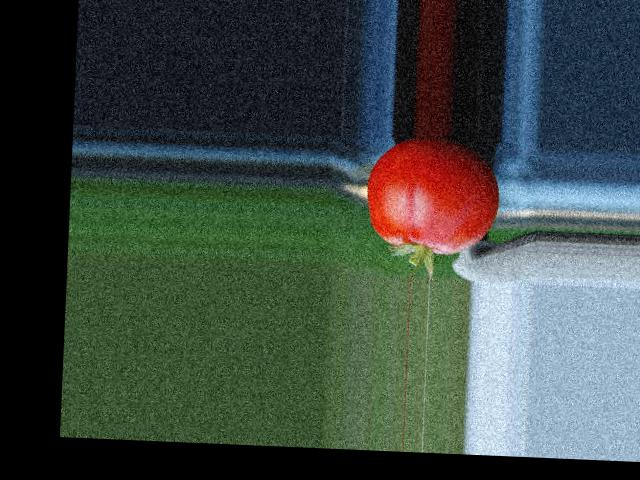tomato: (364, 135, 501, 256)
